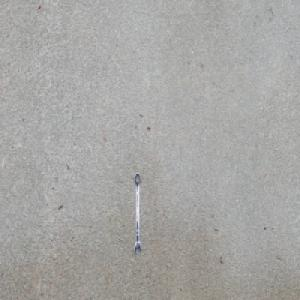Wrench: (133, 170, 142, 256)
